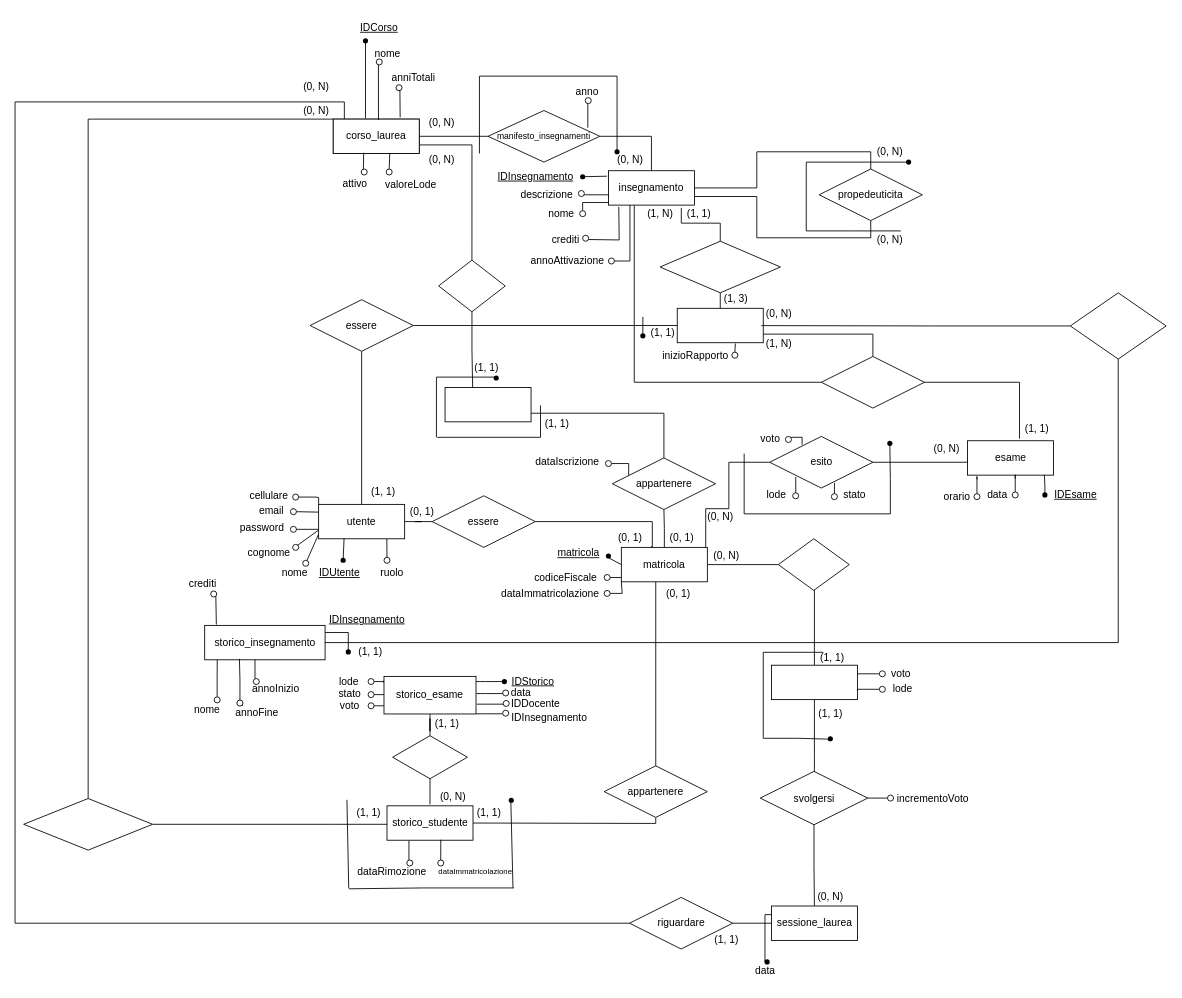
The diagram is 1182 pixels wide and 998 high, and some of its shapes have lost their labels. The centre of each missing label's shape, as x and y in pixels:
"conseguire" belongs at pixel 813 564.
"docente" belongs at pixel 719 325.
"essere_responsabile" belongs at pixel 719 266.
"ex_responsabile" belongs at pixel 1117 325.
"iscrizione" belongs at pixel 471 285.
"laurea" belongs at pixel 814 682.
"riguarda" belongs at pixel 872 382.
"sostenere" belongs at pixel 429 757.
"storico_iscrizione" belongs at pixel 88 824.
"studente" belongs at pixel 487 404.
